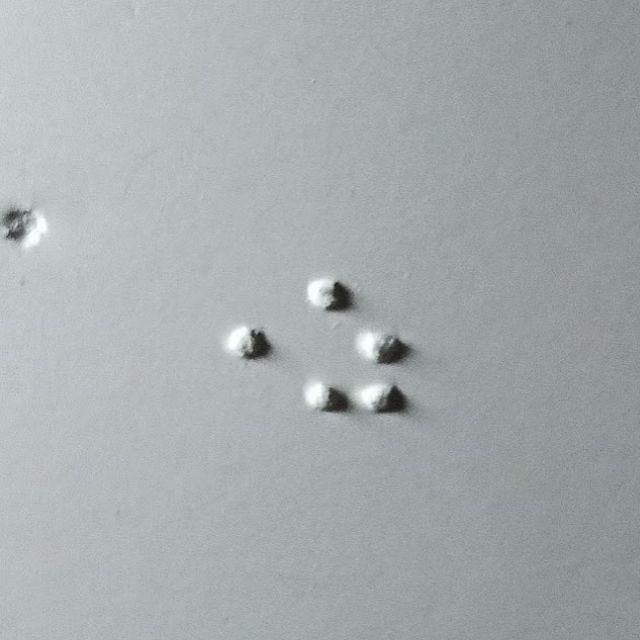dot_5: (168, 278, 267, 412)
salita: (306, 278, 403, 412)
